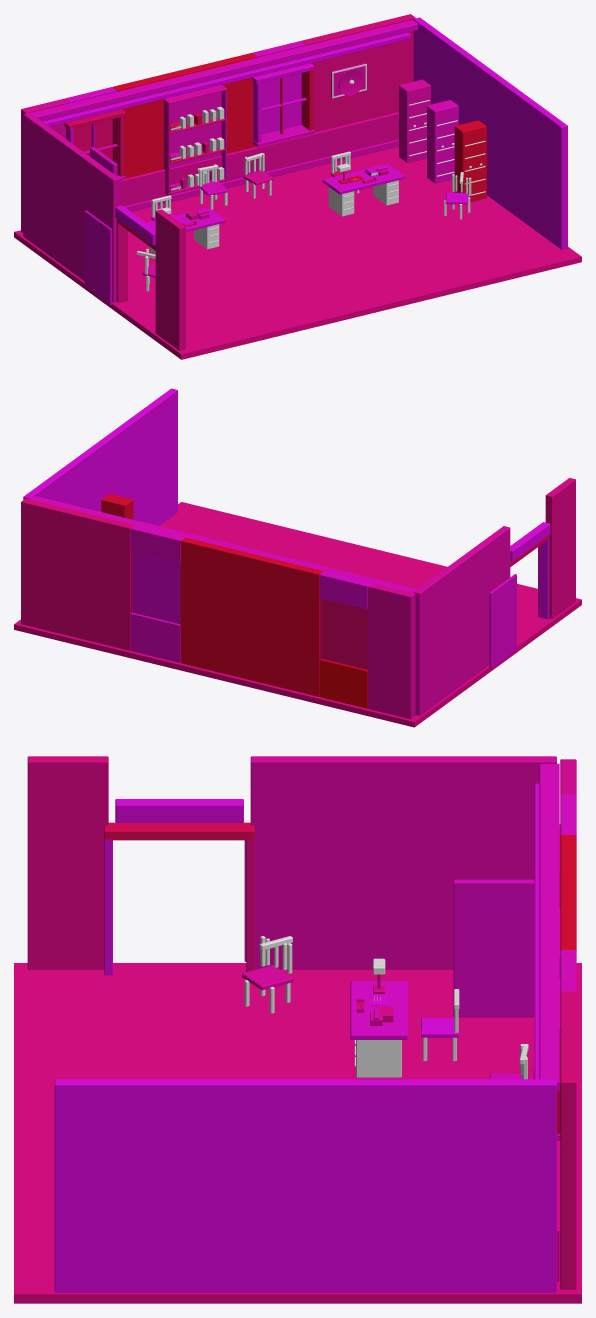
File: court_chapter_12.glb
3 views of the same model, one above another, from view 1: azimuth 30°, elevation 25°; view 2: azimuth 150°, elevation 25°; view 3: azimuth 270°, elevation 25° (orthographic). The views are drawn at different scales.
Parts seen in each view (by area): view 1: Floor, WallRight, WallLeftRear, Wainscot, WallBackPier_end, WallBackPier_1, CorniceRear, MinistryBooks, WallLeftFront, OfficeCornice, MinistryFiling_2, MinistryFiling_0 (+21 smaller); view 2: WallBackPier_1, WallBackPier_end, Floor, WallLeftRear, WallRight, WallBackPier_0, WallLeftFront, Glazing_1, Glazing_0, OpenDoorLeaf, CorniceRear, WallBackLow_1 (+6 smaller); view 3: WallRight, Floor, WallLeftRear, WallLeftFront, ConsultationPartition, CorniceRear, WallBackPier_end, Desk_0, DoorLintel, EntranceHeader, Chair_officials_2, WallBackPier_1 (+5 smaller).
Boxes of the visible parts, x1,y1,x2,y2 form: Floor: (14,146,581,359); WallRight: (413,17,567,249); WallLeftRear: (23,112,119,302); Wainscot: (120,112,398,206); WallBackPier_end: (302,14,415,132); WallBackPier_1: (113,53,255,178); CorniceRear: (31,19,418,121); MinistryBooks: (163,85,226,195); WallLeftFront: (155,209,185,350); OfficeCornice: (42,32,410,126); MinistryFiling_2: (454,120,486,201); MinistryFiling_0: (399,79,430,162); WallBackPier_1: (180,537,323,696); WallBackPier_end: (21,498,134,650); Floor: (14,502,581,727); WallLeftRear: (413,526,510,715); WallRight: (23,388,177,525); WallBackPier_0: (368,583,415,719); WallLeftFront: (545,478,575,618); Glazing_1: (132,552,180,623); Glazing_0: (321,598,367,669); OpenDoorLeaf: (489,574,516,668); CorniceRear: (30,496,416,592); WallBackLow_1: (130,612,180,662); WallRight: (54,1079,556,1292); Floor: (14,963,581,1303); WallLeftRear: (250,756,556,969); WallLeftFront: (27,756,108,969); ConsultationPartition: (453,879,534,1017); CorniceRear: (539,763,559,1091); WallBackPier_end: (560,991,576,1289); Desk_0: (350,981,407,1077); DoorLintel: (115,799,243,822); EntranceHeader: (104,822,254,840); Chair_officials_2: (242,936,293,1013); WallBackPier_1: (560,835,576,950).
Size of the model in its own units: 11.7 by 3.55 by 8.4.
